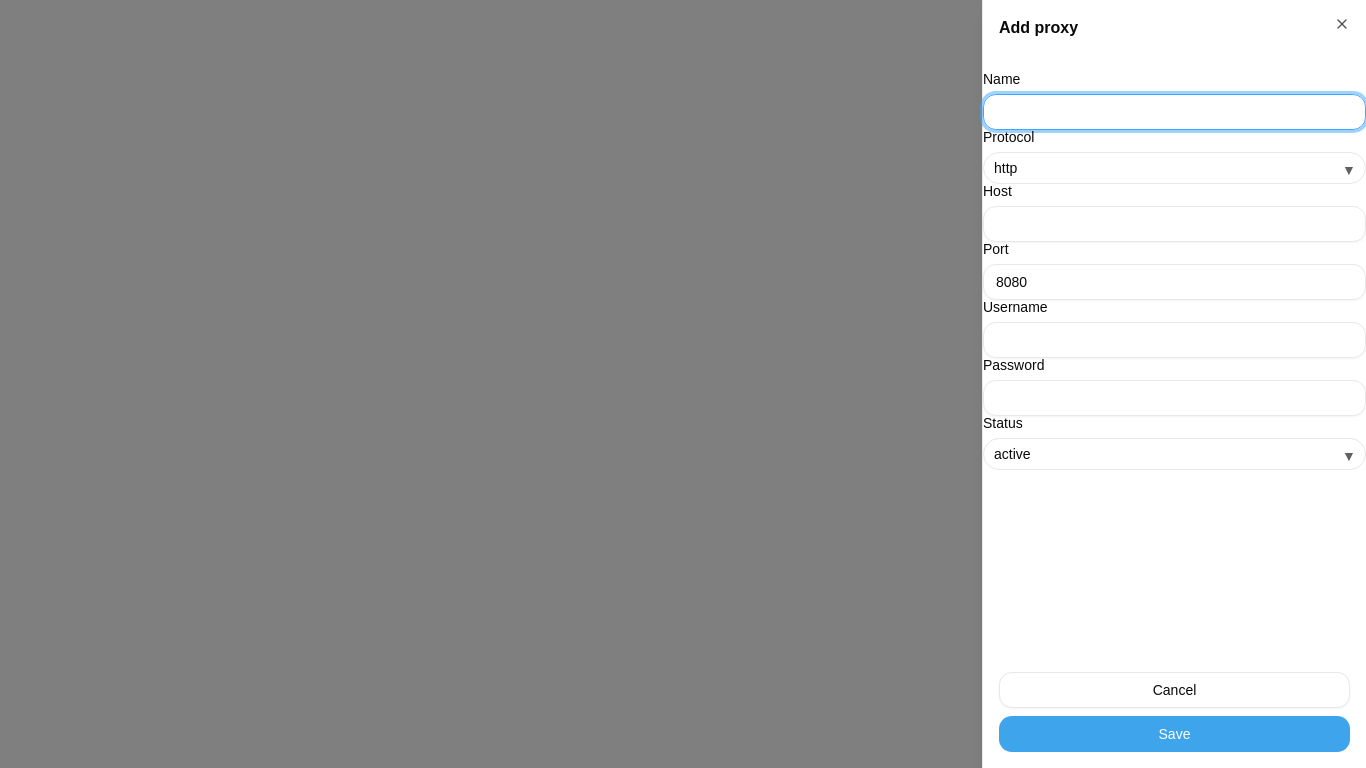
Proxy mutate drawer shadowsocks › switches username field to encryption method with method placeholder when ss is selected
Expected: the text "Protocol" is shown, [983,129,1034,145]
Click the dropdown named "Protocol". click: click(1006, 168)
box: [983,152,1365,184]
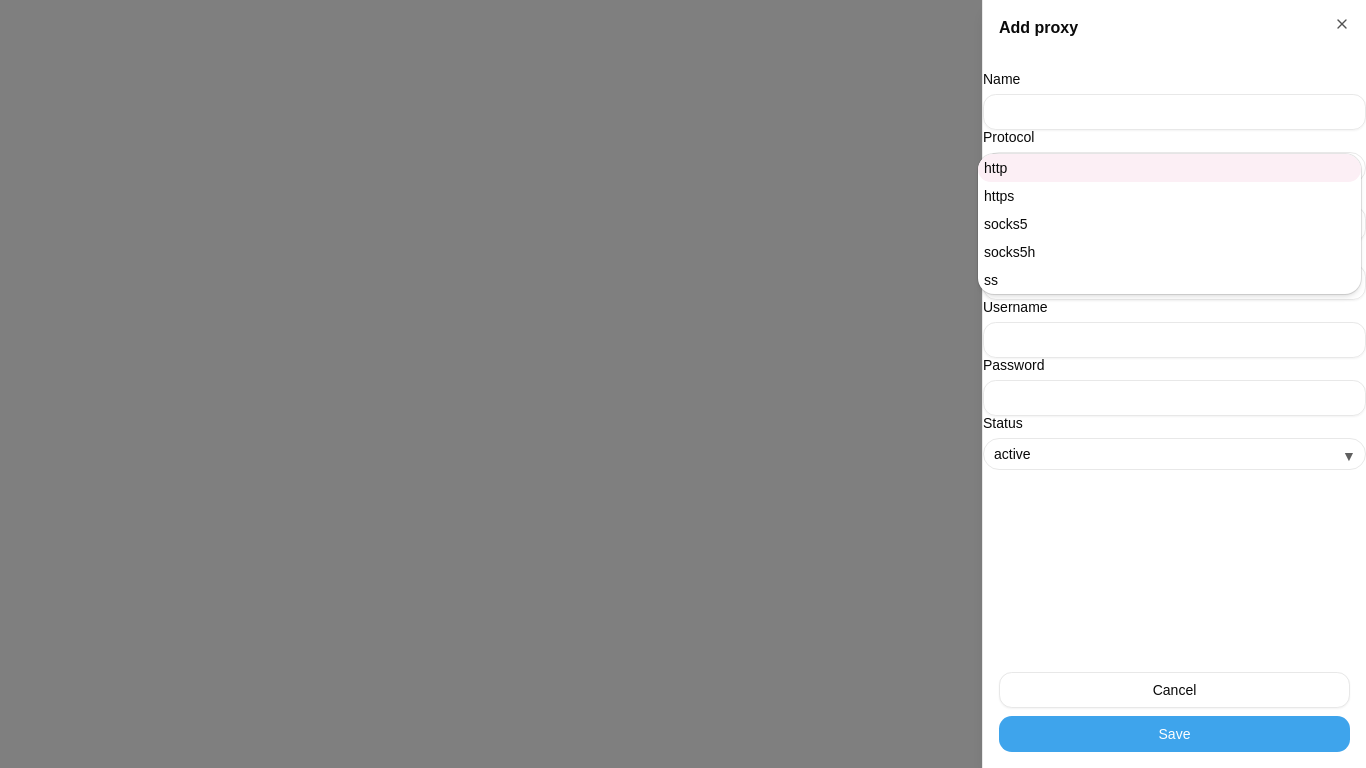
Click the option "ss". click: click(991, 280)
box: [984,272,998,288]
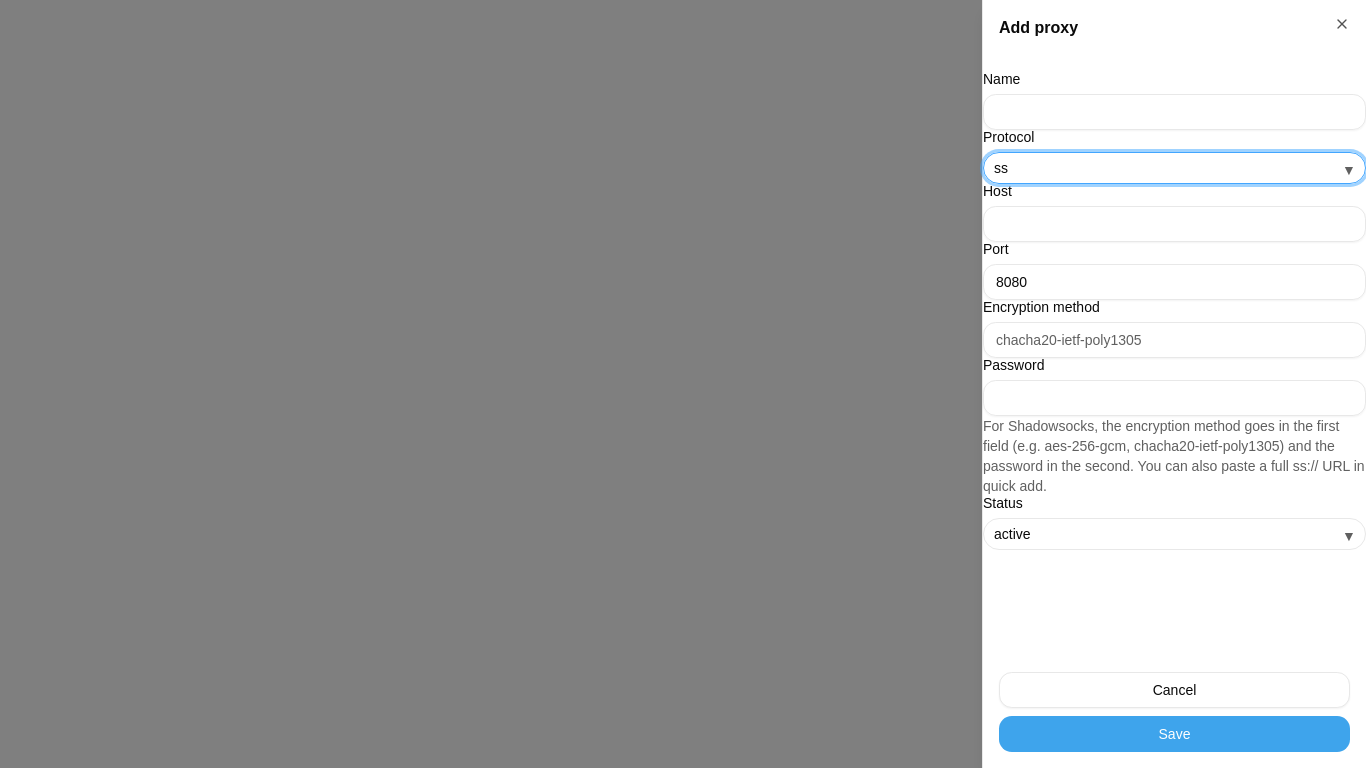
Now the text "Encryption method" is shown, box [983,299,1100,315]
Now the field with placeholder "chacha20-ietf-poly1305" is shown, box [983,322,1365,358]
